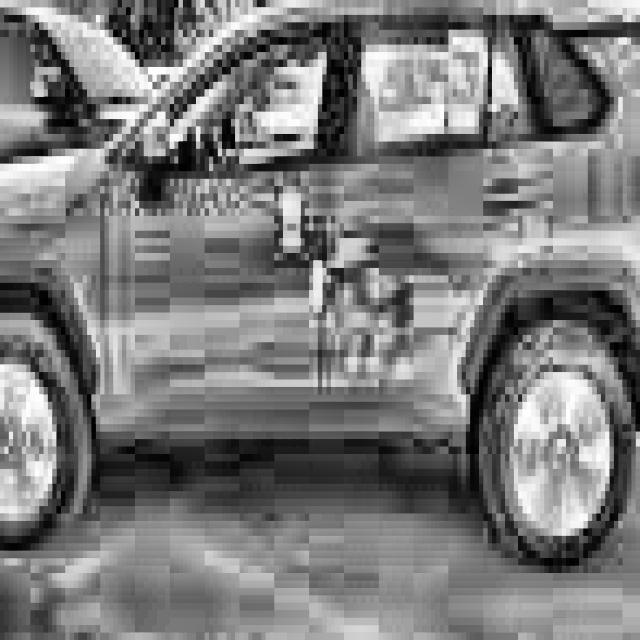light_vehicle: (0, 0, 640, 566)
